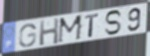9: (127, 8, 142, 32)
G: (18, 23, 37, 48)
H: (39, 17, 60, 47)
M: (57, 14, 84, 45)
S: (104, 9, 124, 36)
T: (84, 13, 100, 39)
